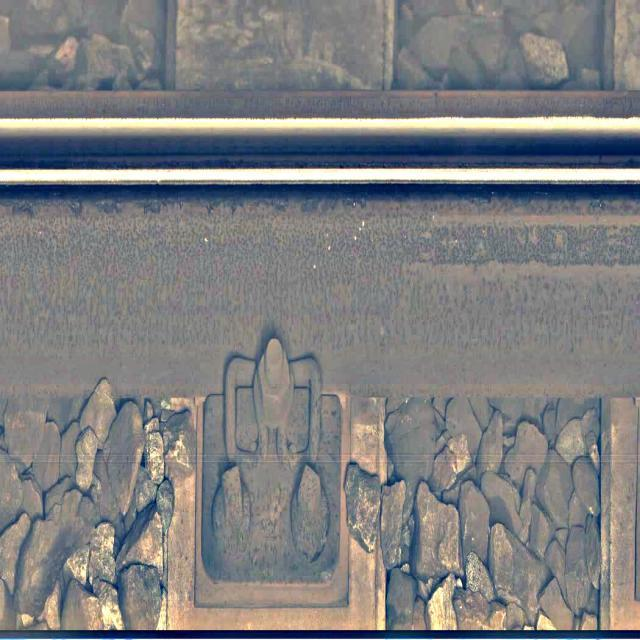Good Fasteners: (195, 338, 348, 607)
